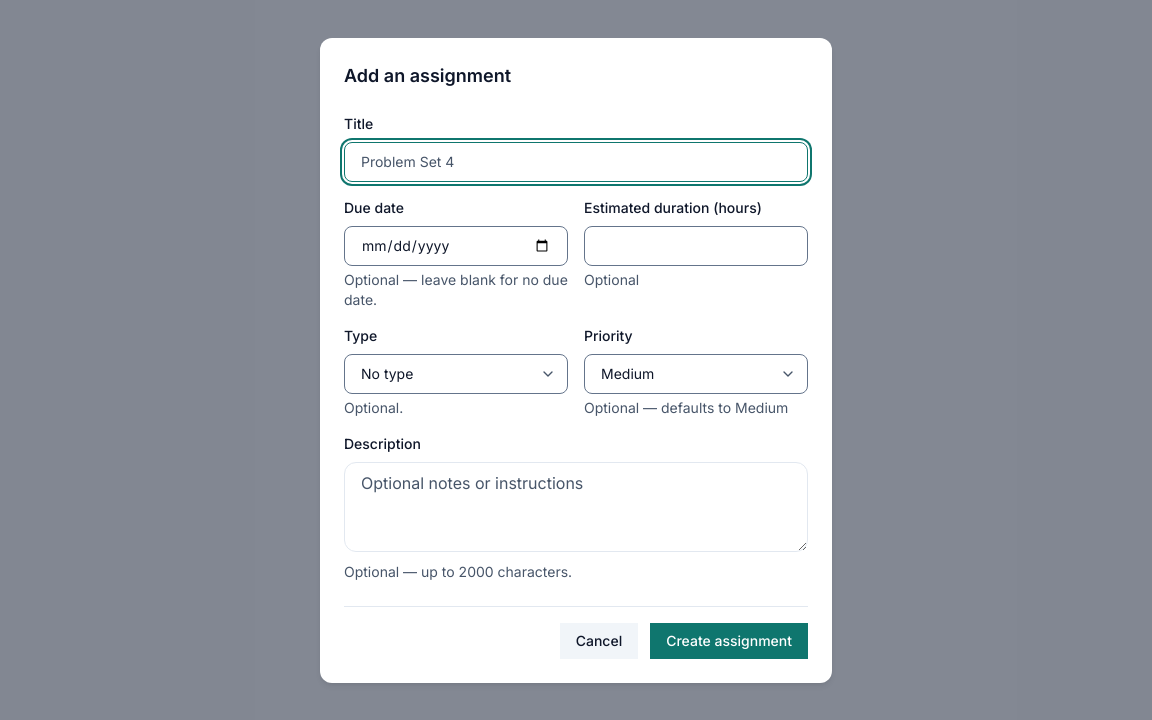
Test case: AssignmentForm › rejects invalid estimated duration -3
Type "Homework" into the field labelled "Title" at point(576, 162), box [344,142,808,182]
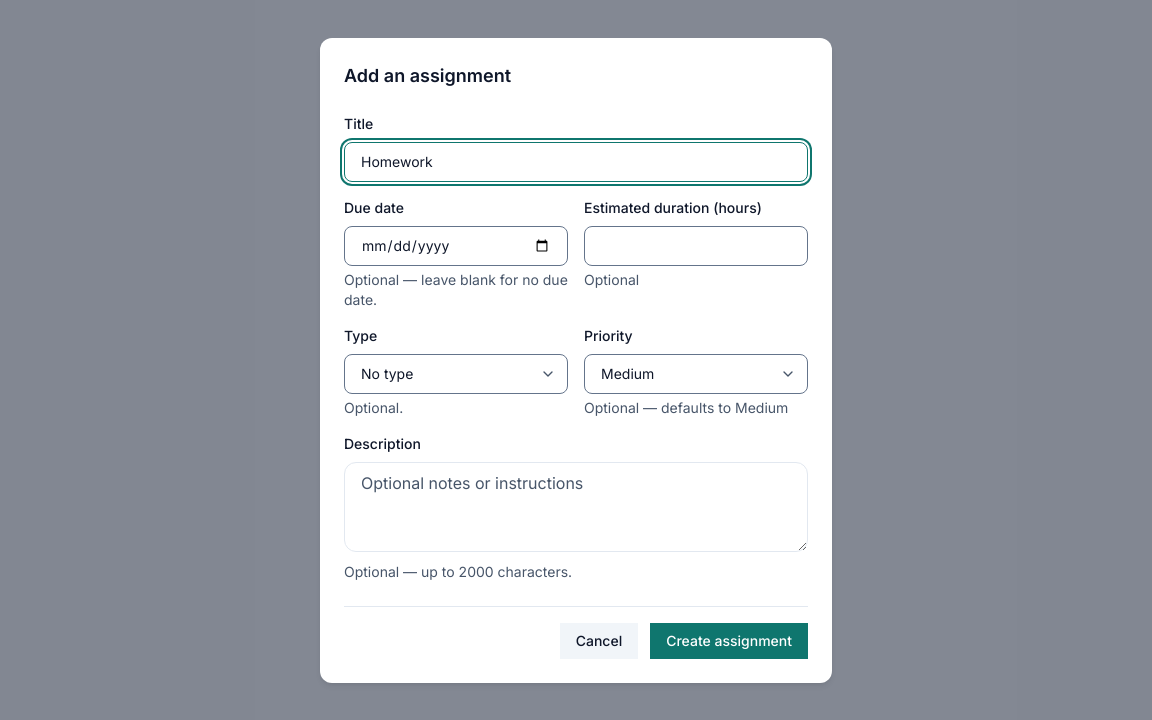
Type "-3" into the number field labelled "Estimated duration (hours)" at point(696, 246), box [584,226,808,266]
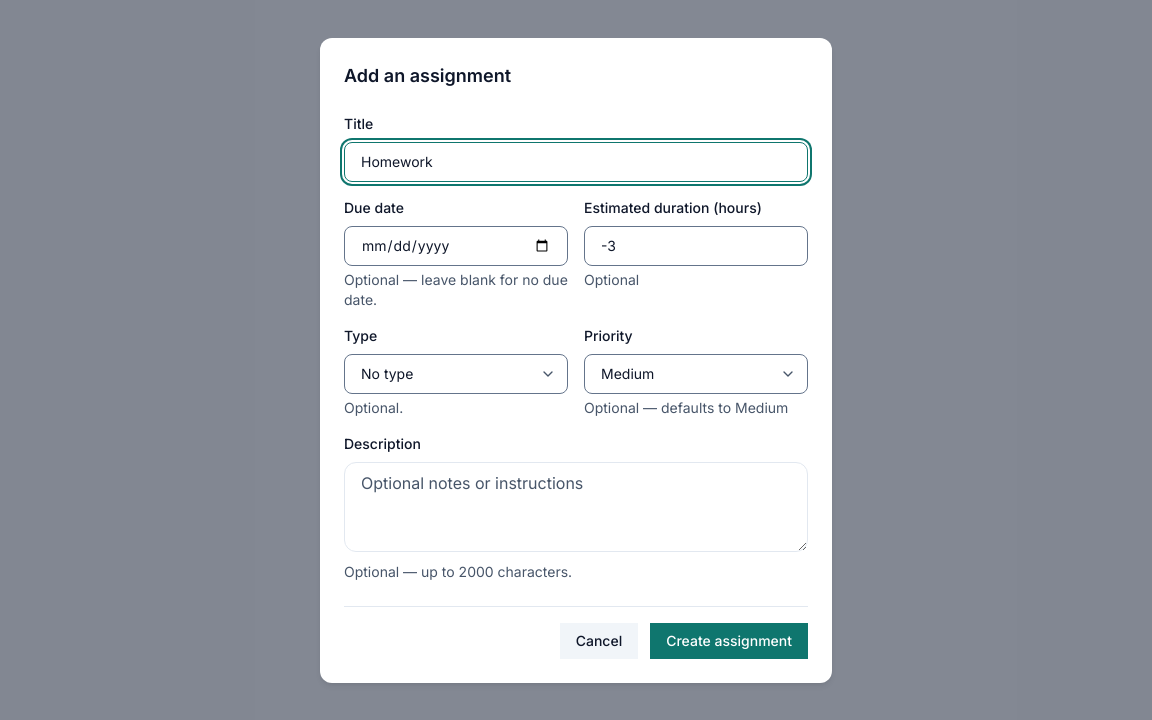
Click the button "Create assignment" at point(729, 640), box [650,622,808,658]
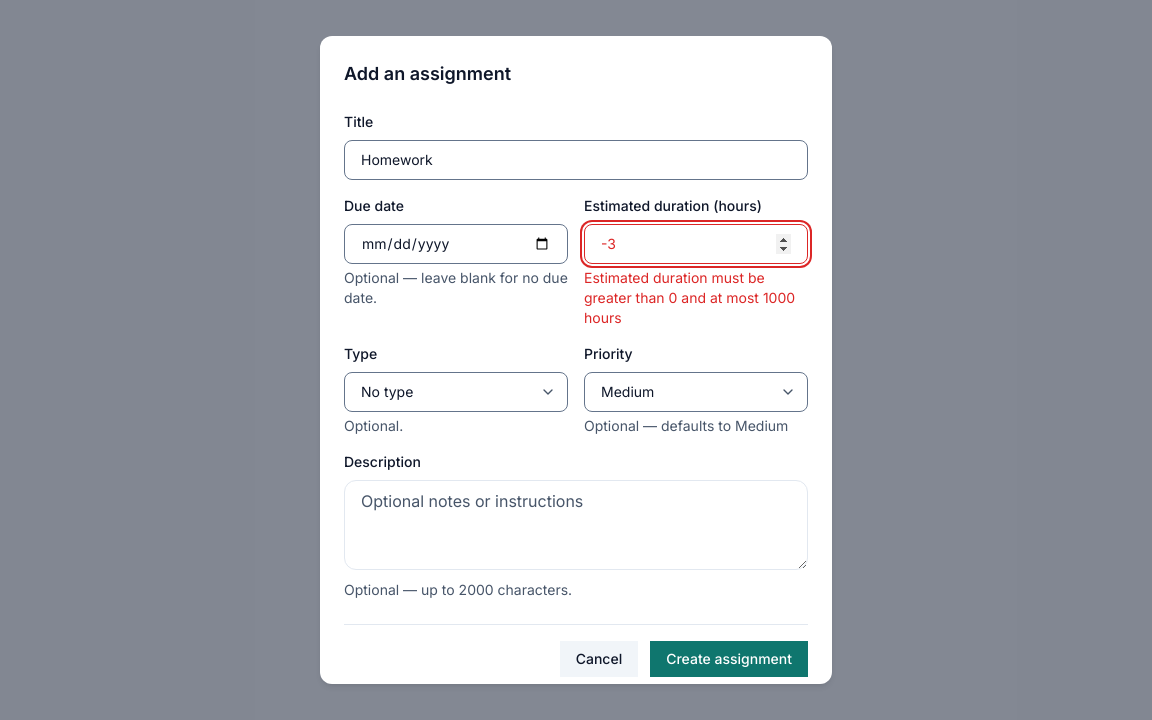
Expected: the text "Estimated duration must be greater than 0 and at most 1000 hours" is shown, [584,268,808,328]
